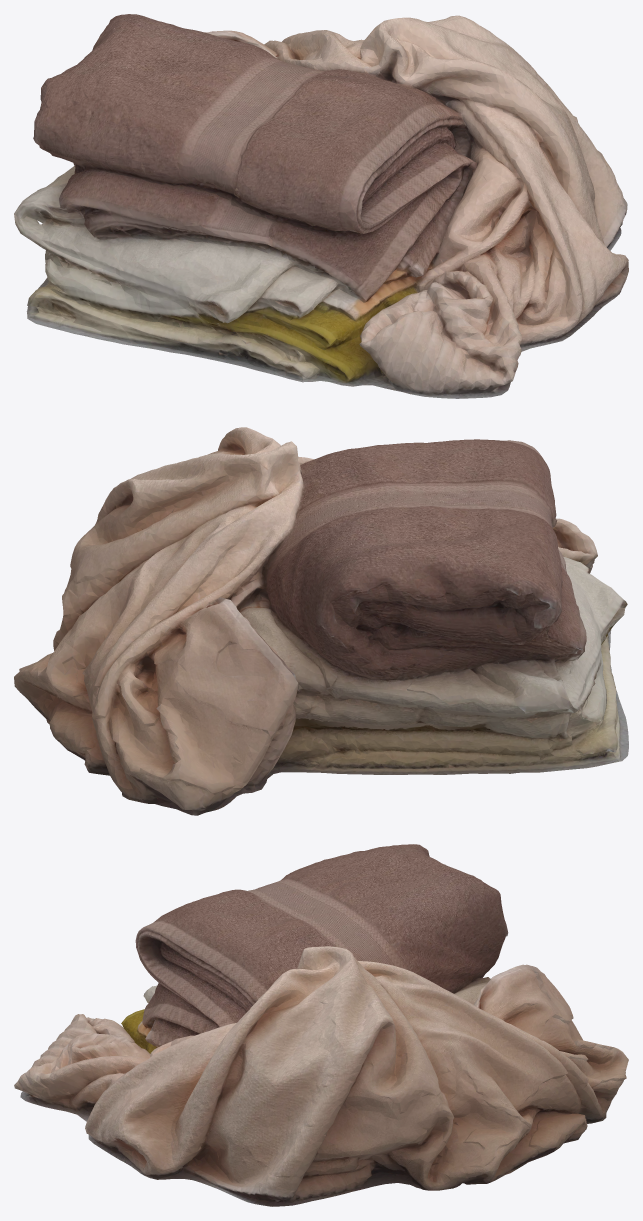
File: sf-towels-i-3d53fc.glb
3 renders of one model, top to bottom at view 1: azimuth 30°, elevation 25°; view 2: azimuth 150°, elevation 25°; view 3: azimuth 270°, elevation 25°, orthographic. The views are drawn at different scales.
Parts seen in each view (by area): view 1: towels1_towels1_u1_v1_0; view 2: towels1_towels1_u1_v1_0; view 3: towels1_towels1_u1_v1_0.
Part boxes in pixels (x1,y1,x2,y2): towels1_towels1_u1_v1_0: (14,14,628,398); towels1_towels1_u1_v1_0: (14,427,628,815); towels1_towels1_u1_v1_0: (14,844,628,1206).
Size of the model in its own units: 0.7606 by 0.2817 by 0.8684.
Materials: 1 (1 with a texture image).
